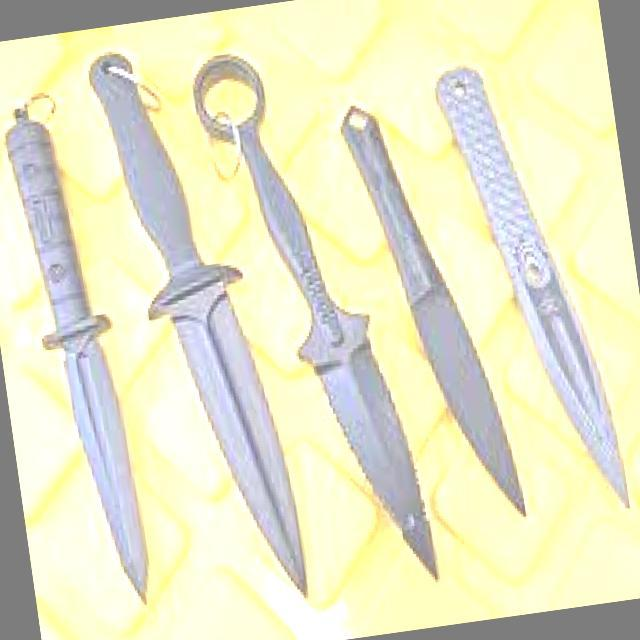Knife: (43, 40, 373, 635), (166, 32, 485, 613), (311, 73, 562, 569), (406, 43, 640, 540), (0, 76, 185, 635)
